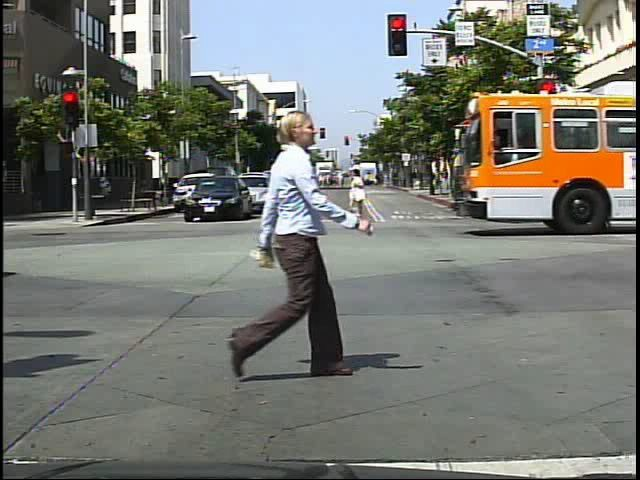person: (210, 89, 359, 389), (269, 164, 303, 236), (266, 167, 295, 228), (345, 164, 374, 210), (551, 160, 574, 211)
